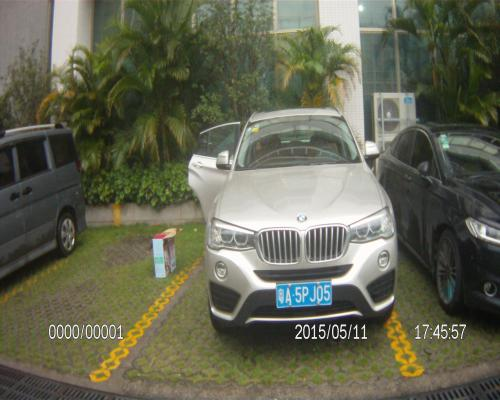Carplate: (272, 277, 338, 312)
